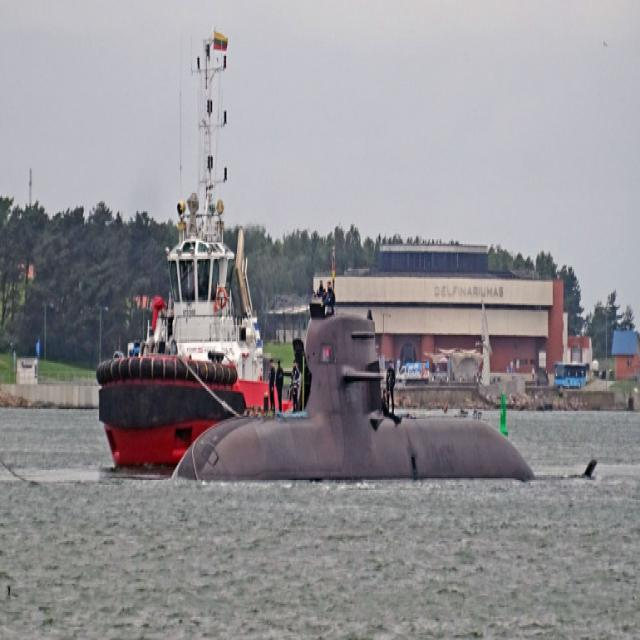submarine: (170, 308, 602, 486)
